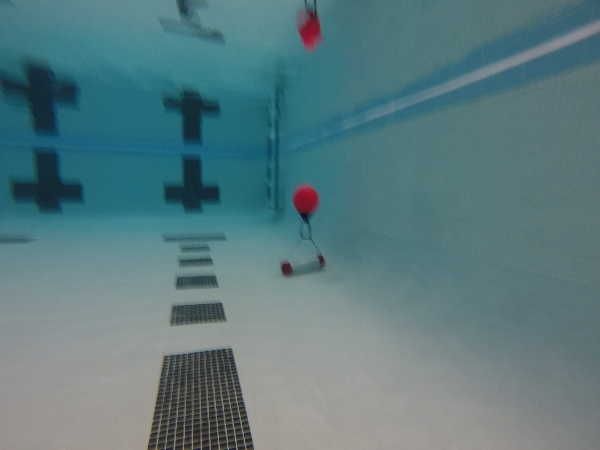buoy_red: (290, 185, 321, 225)
